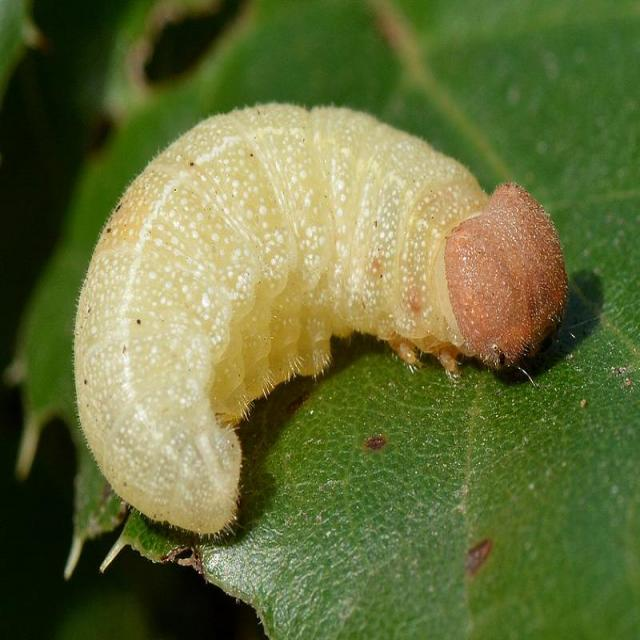Grub-Adult-: (59, 89, 586, 556)
